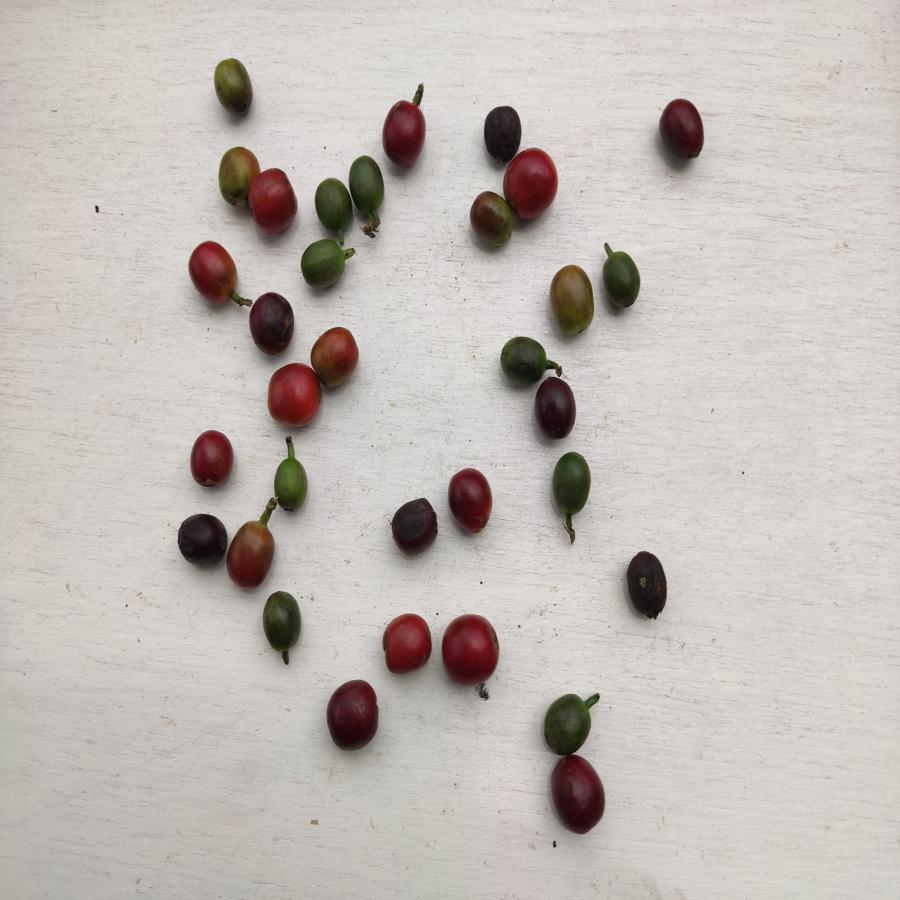Inmaduro: (550, 445, 594, 525), (542, 689, 593, 754), (300, 235, 352, 293), (258, 589, 303, 652), (272, 450, 312, 514), (312, 175, 357, 230), (604, 249, 645, 308), (345, 157, 386, 215)
Maduro: (436, 608, 506, 689), (374, 604, 430, 677), (508, 145, 561, 219), (182, 239, 243, 300), (266, 365, 326, 424), (185, 427, 239, 488), (248, 165, 296, 230)
Pinton: (541, 260, 601, 338), (210, 57, 260, 120), (226, 518, 273, 583), (312, 324, 364, 382), (212, 144, 252, 209), (474, 196, 515, 247)
Sobremaduro: (324, 676, 384, 750), (550, 756, 607, 832), (245, 294, 301, 356), (657, 98, 710, 159), (447, 469, 499, 531), (175, 512, 229, 569), (624, 552, 669, 620), (530, 377, 580, 438), (381, 102, 427, 164), (386, 499, 439, 551), (480, 104, 521, 156)
